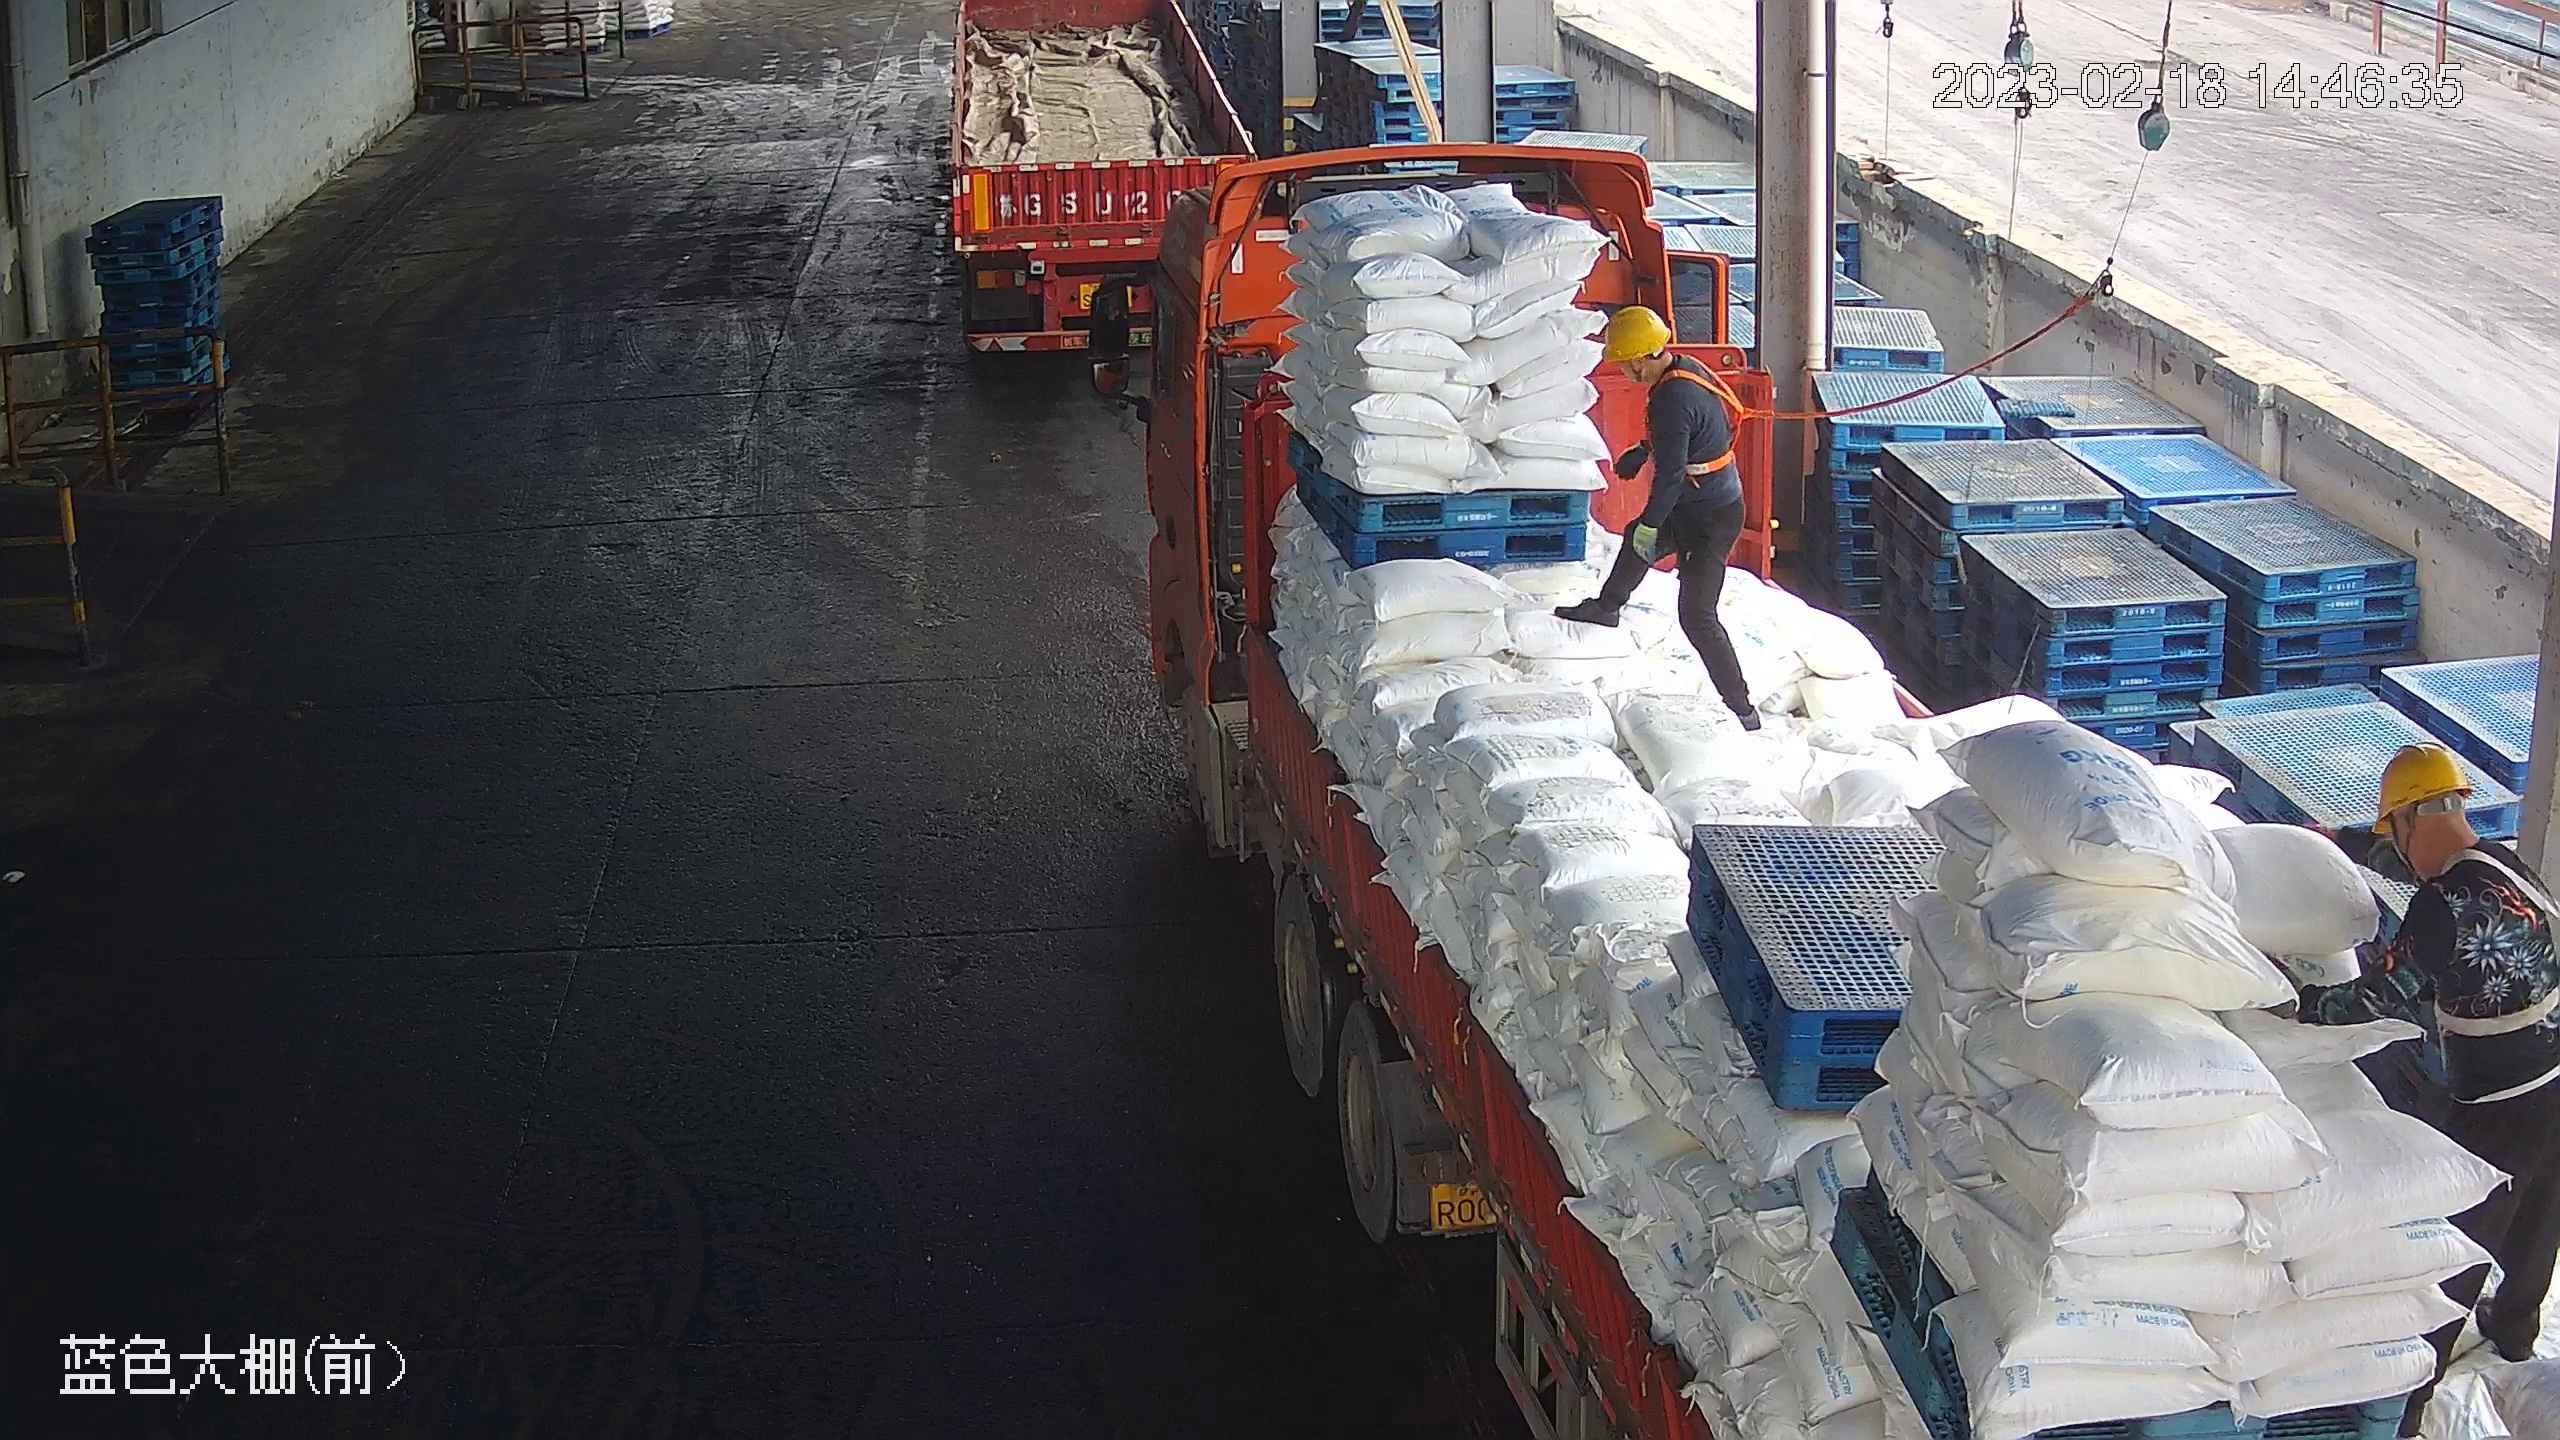belt: (2429, 849, 2559, 1044), (1657, 352, 1765, 481)
head: (2364, 741, 2552, 946), (1594, 302, 1737, 424)
helmet: (2368, 742, 2474, 836), (1598, 302, 1674, 364)
people: (2256, 736, 2558, 1419), (1550, 301, 1765, 735)
truck: (1087, 142, 2559, 1439), (946, 2, 1259, 353)
